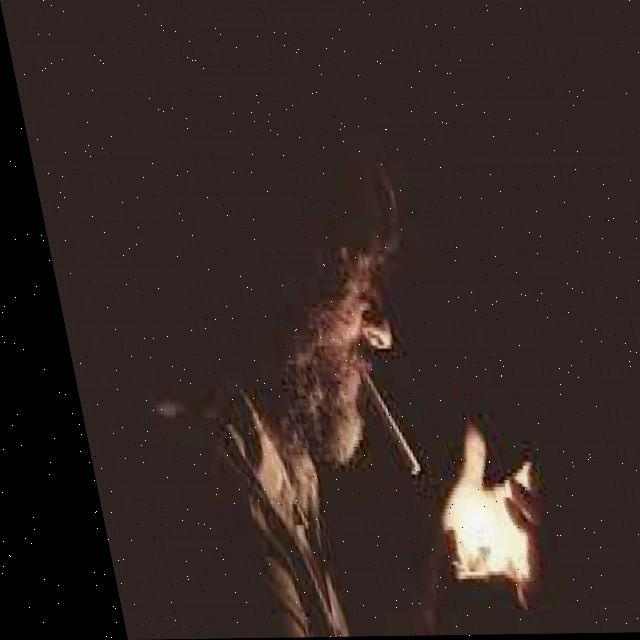Fire: (426, 496, 482, 556)
